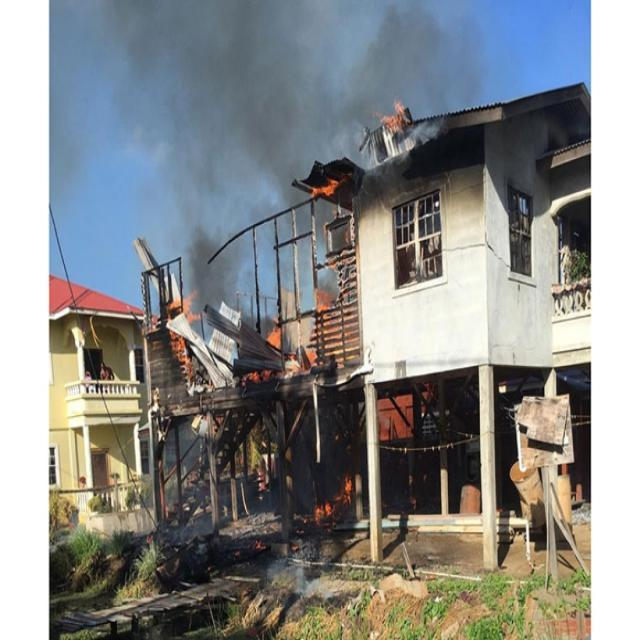Smoke: (153, 7, 356, 156)
